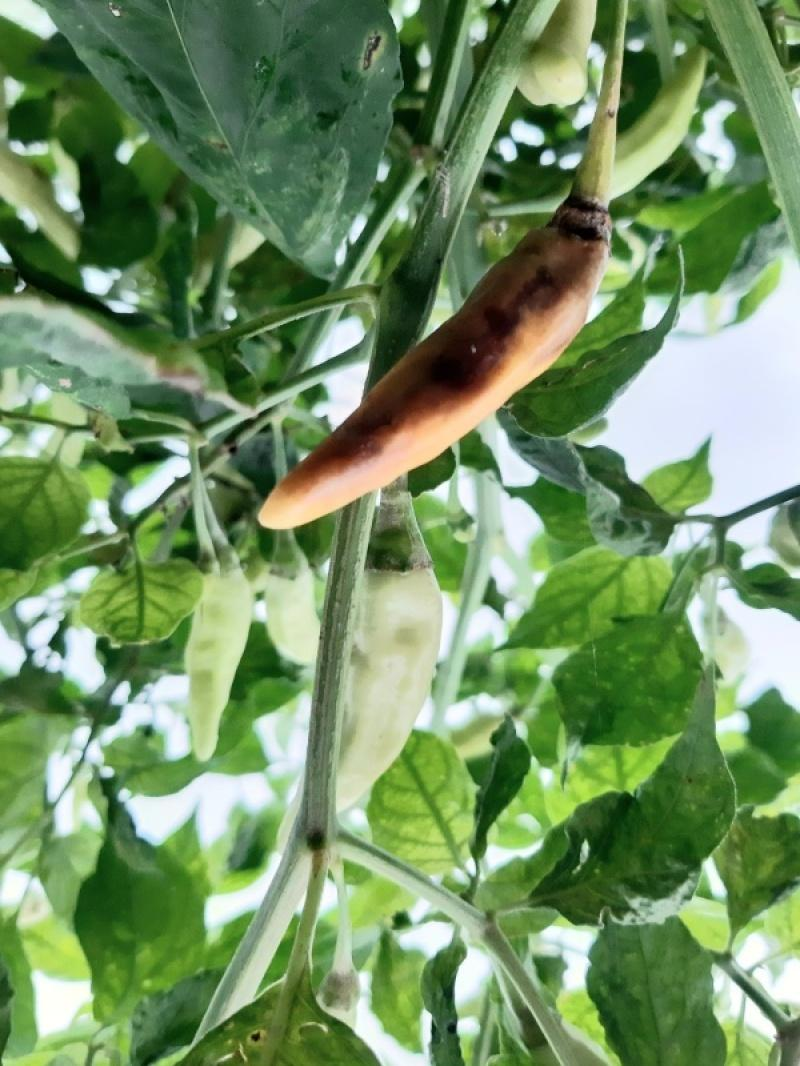antraknosa: (259, 180, 622, 536)
cabai_normal: (328, 573, 447, 836), (179, 567, 259, 763)
